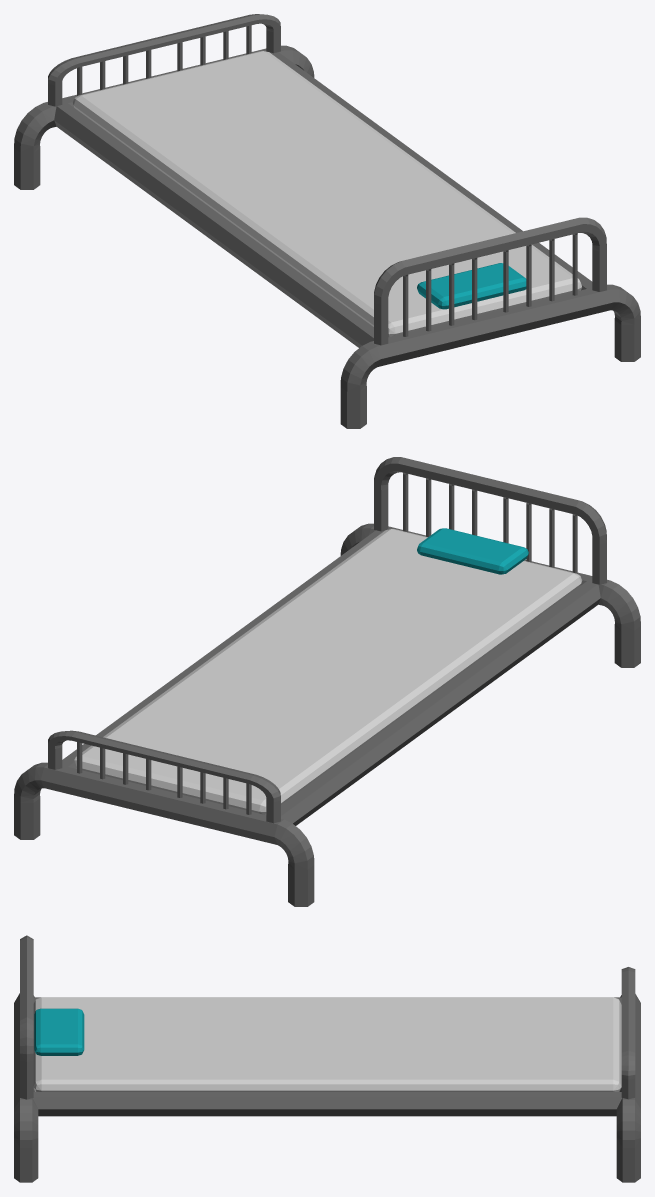
Rendered from Bed.fbx.
3 views of the same model, one above another, from view 1: azimuth 30°, elevation 25°; view 2: azimuth 150°, elevation 25°; view 3: azimuth 270°, elevation 25° (orthographic). The views are drawn at different scales.
Parts seen in each view (by area): view 1: Matress, Bedframe, Pillow; view 2: Matress, Bedframe, Pillow; view 3: Matress, Bedframe, Pillow.
Boxes of the visible parts, x1,y1,x2,y2 form: Matress: (73,51,581,337); Bedframe: (14,14,640,428); Pillow: (417,263,526,309); Matress: (73,529,582,814); Bedframe: (14,457,640,906); Pillow: (417,528,528,574); Matress: (33,997,621,1091); Bedframe: (14,935,640,1182); Pillow: (34,1008,84,1055).
Size of the model in its own units: 192 by 95.71 by 47.03.
